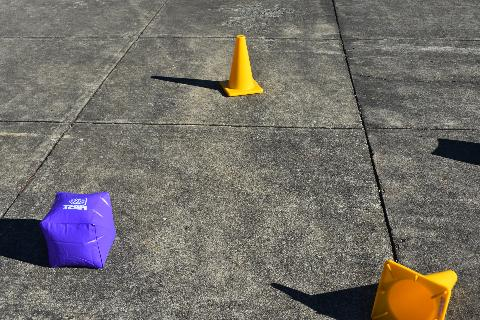cone: (371, 260, 458, 320), (219, 35, 263, 97)
cube: (38, 191, 116, 269)
